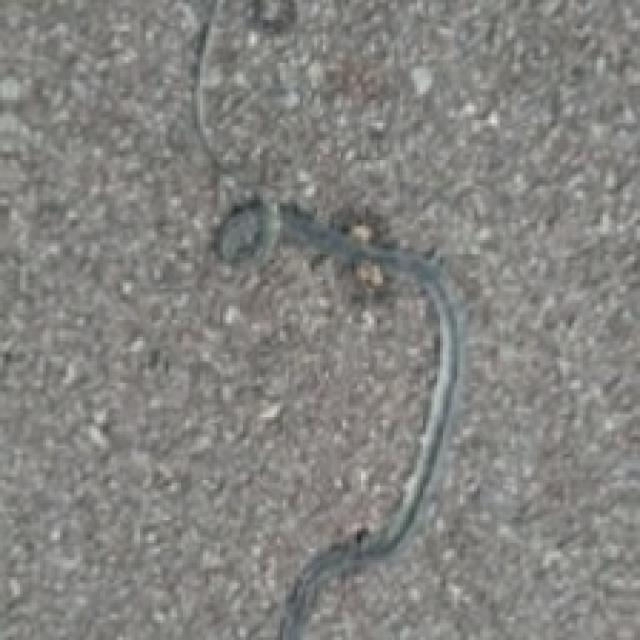paradise tree snake: (214, 194, 460, 637), (197, 0, 497, 240)
